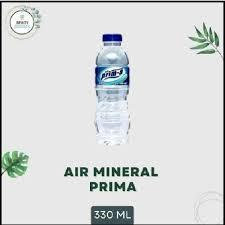BIODEGRADABLE: (89, 30, 139, 145)
